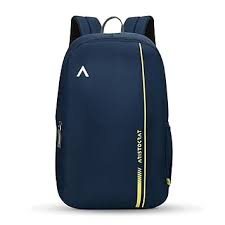bag: (49, 12, 177, 212)
